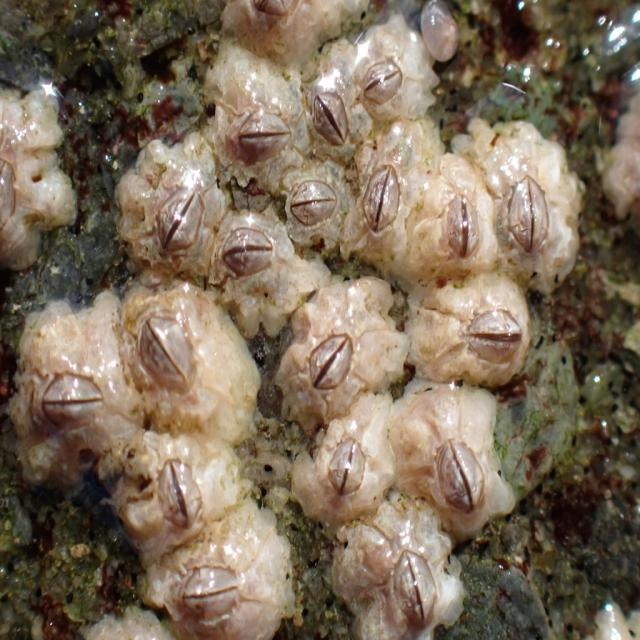barnacles: (123, 288, 253, 444), (13, 314, 122, 492), (138, 537, 316, 639), (108, 433, 260, 552), (397, 383, 517, 530), (477, 122, 580, 292), (338, 513, 466, 639), (276, 289, 396, 422), (115, 135, 218, 276), (407, 281, 535, 392), (203, 56, 304, 182), (408, 167, 503, 282), (296, 404, 391, 515), (210, 206, 300, 308), (352, 132, 416, 273), (351, 21, 435, 122), (284, 152, 348, 261), (299, 66, 363, 158)
